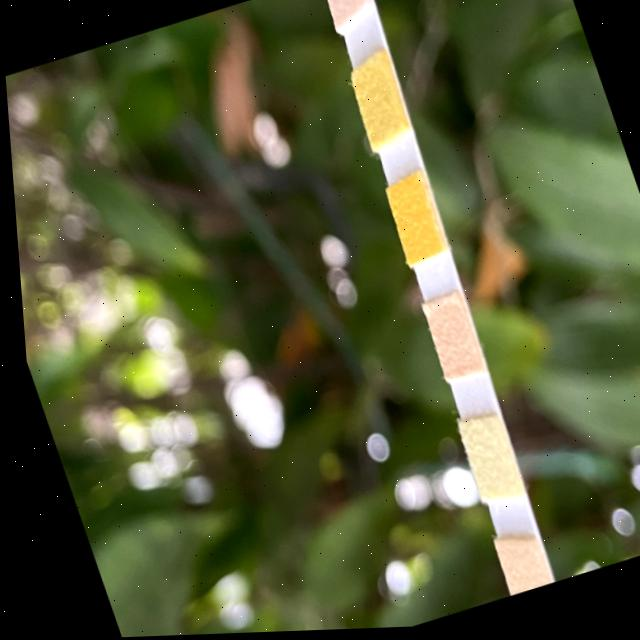Blood: (381, 179, 443, 259)
Ketone: (323, 0, 371, 11)
Protein: (451, 415, 513, 501)
SpGravity: (348, 65, 408, 139)
Urobilinogen: (488, 543, 540, 598)
pH: (417, 297, 478, 383)
